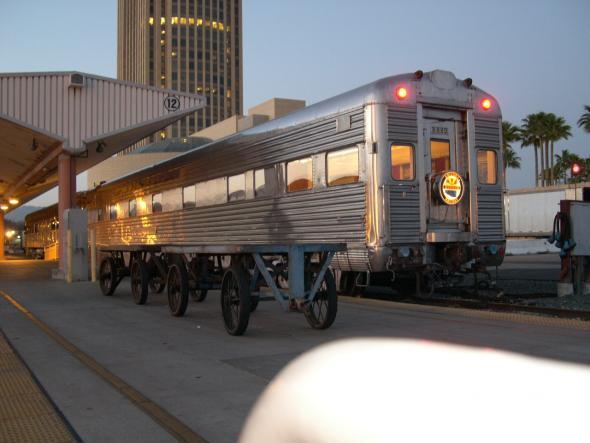Train: (19, 71, 506, 299)
